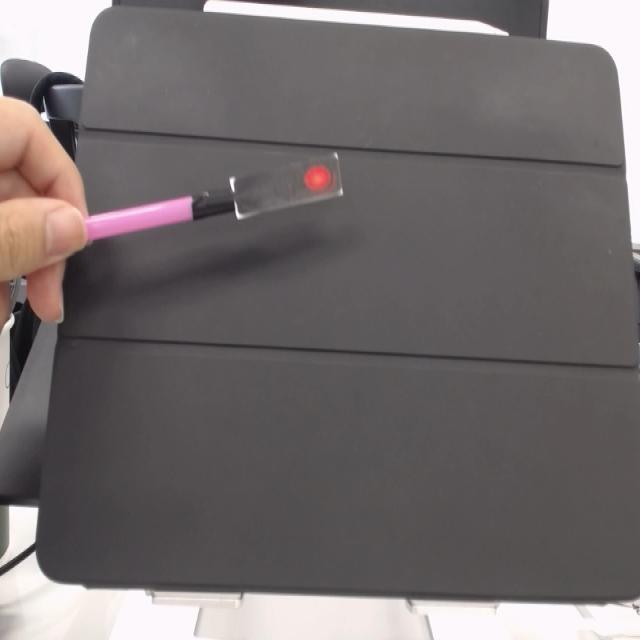traffic light: (229, 159, 347, 223)
